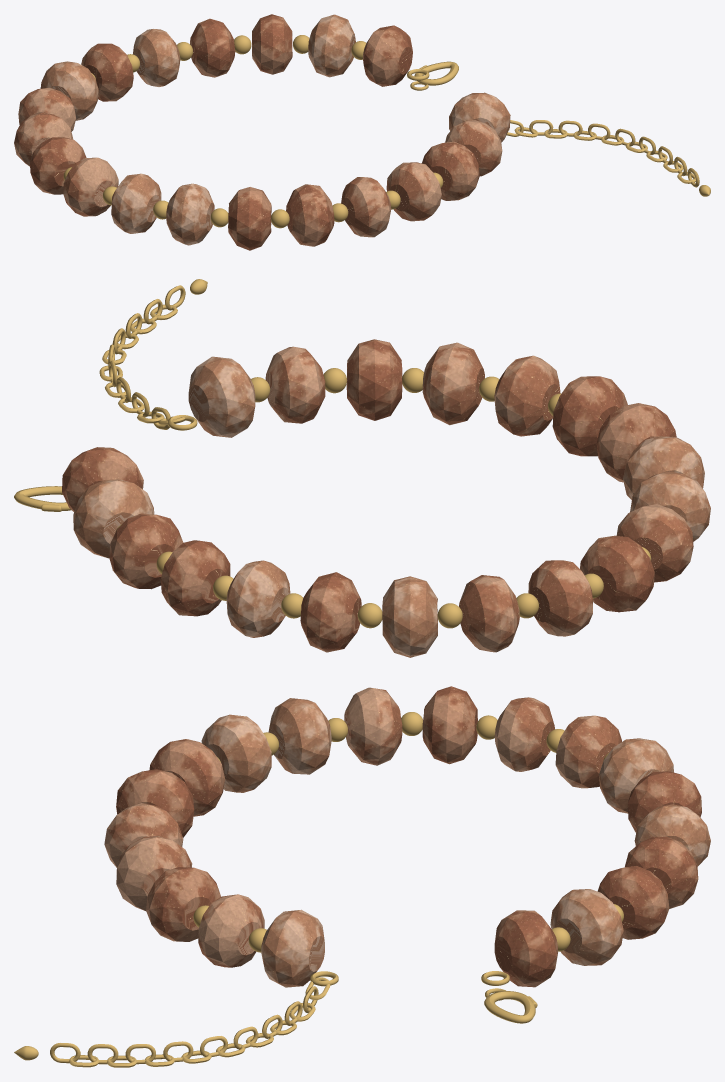
Rendered from standard.glb.
3 renders of one model, top to bottom at view 1: azimuth 30°, elevation 25°; view 2: azimuth 150°, elevation 25°; view 3: azimuth 270°, elevation 25°, orthographic. The views are drawn at different scales.
Parts seen in each view (by area): view 1: facet_rondel_0, facet_rondel_1.003, facet_rondel_0.002, facet_rondel_4.002, facet_rondel_2.002, facet_rondel_1.002, facet_rondel_0.003, facet_rondel_1, facet_rondel_2.003, facet_rondel_3.002, facet_rondel_4.001, facet_rondel_0.001 (+9 smaller); view 2: facet_rondel_4.003, facet_rondel_4.001, facet_rondel_0.003, facet_rondel_4.002, facet_rondel_1.003, facet_rondel_3, facet_rondel_2, facet_rondel_3.001, facet_rondel_1, facet_rondel_1.001, facet_rondel_0.001, facet_rondel_2.003 (+9 smaller); view 3: facet_rondel_1, facet_rondel_4.003, facet_rondel_0, facet_rondel_2.003, facet_rondel_2.002, facet_rondel_1.002, facet_rondel_3.003, facet_rondel_0.002, facet_rondel_2, facet_rondel_3.001, facet_rondel_4.001, facet_rondel_2.001 (+9 smaller).
Boxes of the visible parts, x1,y1,x2,y2 form: facet_rondel_0: [363, 25, 412, 86]; facet_rondel_1.003: [386, 162, 441, 221]; facet_rondel_0.002: [63, 157, 118, 216]; facet_rondel_4.002: [286, 184, 334, 246]; facet_rondel_2.002: [166, 183, 214, 245]; facet_rondel_1.002: [111, 173, 161, 233]; facet_rondel_0.003: [341, 177, 391, 237]; facet_rondel_1: [308, 14, 355, 77]; facet_rondel_2.003: [421, 141, 479, 200]; facet_rondel_3.002: [228, 187, 271, 250]; facet_rondel_4.001: [30, 137, 86, 194]; facet_rondel_0.001: [81, 43, 133, 101]; facet_rondel_4.003: [188, 356, 255, 437]; facet_rondel_4.001: [580, 535, 654, 612]; facet_rondel_0.003: [494, 355, 560, 436]; facet_rondel_4.002: [552, 376, 627, 456]; facet_rondel_1.003: [422, 342, 484, 425]; facet_rondel_3: [160, 540, 230, 616]; facet_rondel_2: [109, 513, 183, 589]; facet_rondel_3.001: [528, 560, 592, 636]; facet_rondel_1: [73, 479, 154, 558]; facet_rondel_1.001: [382, 576, 437, 657]; facet_rondel_0.001: [300, 572, 361, 652]; facet_rondel_2.003: [346, 339, 402, 420]; facet_rondel_1: [550, 889, 623, 965]; facet_rondel_4.003: [261, 909, 324, 987]; facet_rondel_0: [494, 910, 557, 987]; facet_rondel_2.003: [146, 867, 220, 941]; facet_rondel_2.002: [201, 714, 271, 792]; facet_rondel_1.002: [268, 698, 331, 774]; facet_rondel_3.003: [198, 894, 264, 967]; facet_rondel_0.002: [344, 687, 402, 765]; facet_rondel_2: [597, 866, 669, 939]; facet_rondel_3.001: [494, 697, 554, 771]; facet_rondel_4.001: [422, 686, 477, 764]; facet_rondel_2.001: [555, 715, 621, 788].
Bounding box in the file's own units: 7.9 × 0.8602 × 7.16.
4 materials, 3 textured.
